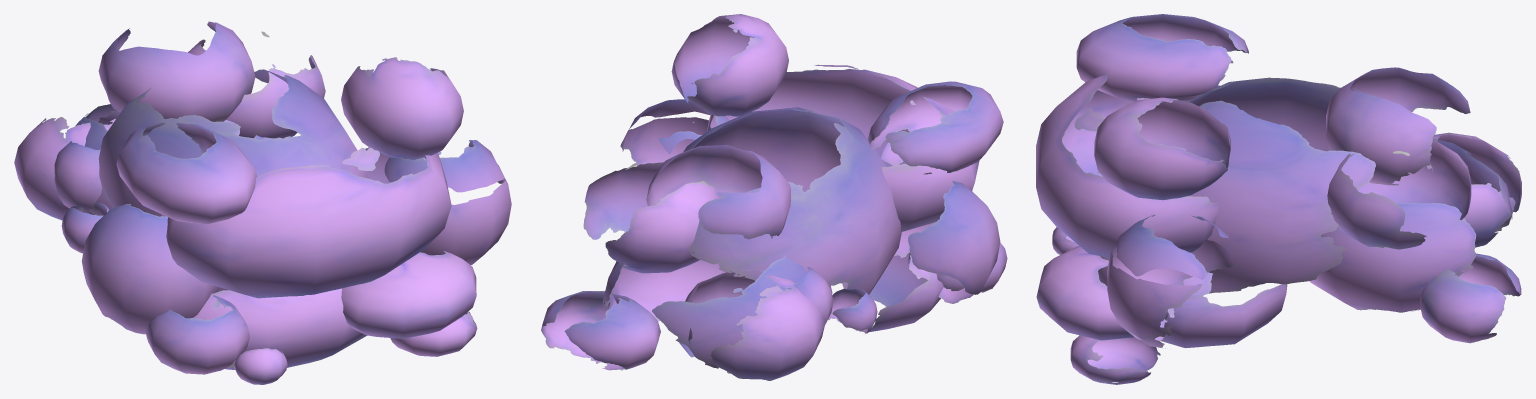
File: cloud_car.fbx
The picture shows the model from 3 angles, left to right: view 1: azimuth 30°, elevation 25°; view 2: azimuth 150°, elevation 25°; view 3: azimuth 270°, elevation 25°; orthographic projection. The views are drawn at different scales.
Parts seen in each view (by area): view 1: cloud_3, cloud_6, cloud_2, cloud_10, cloud_1, cloud_18, cloud_15, cloud_14, cloud_4, cloud_5, cloud_12, cloud_11 (+5 smaller); view 2: cloud_6, cloud_3, cloud_11, cloud_18, cloud_1, cloud_9, cloud_10, cloud_12, cloud_2, cloud_13, cloud_4, cloud_14 (+3 smaller); view 3: cloud_6, cloud_3, cloud_9, cloud_1, cloud_18, cloud_10, cloud_4, cloud_11, cloud_13, cloud_15, cloud_14, cloud_12 (+2 smaller).
Boxes of the visible parts, bbox=[...] form: cloud_3: bbox=[161, 147, 451, 298]; cloud_6: bbox=[98, 69, 368, 291]; cloud_2: bbox=[81, 203, 219, 334]; cloud_10: bbox=[98, 21, 255, 121]; cloud_1: bbox=[116, 123, 257, 224]; cloud_18: bbox=[341, 57, 463, 159]; cloud_15: bbox=[341, 251, 476, 338]; cloud_14: bbox=[194, 288, 367, 369]; cloud_4: bbox=[384, 140, 511, 264]; cloud_5: bbox=[145, 295, 249, 374]; cloud_12: bbox=[14, 111, 119, 220]; cloud_11: bbox=[188, 31, 325, 138]; cloud_6: bbox=[683, 107, 901, 294]; cloud_3: bbox=[707, 64, 979, 231]; cloud_11: bbox=[583, 162, 721, 273]; cloud_18: bbox=[671, 14, 788, 116]; cloud_1: bbox=[868, 81, 1003, 174]; cloud_9: bbox=[602, 256, 832, 368]; cloud_10: bbox=[646, 145, 790, 239]; cloud_12: bbox=[678, 269, 825, 380]; cloud_2: bbox=[894, 181, 1000, 303]; cloud_13: bbox=[541, 291, 660, 370]; cloud_4: bbox=[620, 99, 729, 165]; cloud_14: bbox=[841, 252, 943, 331]; cloud_6: bbox=[1187, 77, 1432, 293]; cloud_3: bbox=[1036, 73, 1218, 258]; cloud_9: bbox=[1309, 139, 1512, 312]; cloud_1: bbox=[1076, 14, 1248, 102]; cloud_18: bbox=[1094, 97, 1230, 200]; cloud_10: bbox=[1326, 67, 1470, 185]; cloud_4: bbox=[1107, 214, 1236, 348]; cloud_11: bbox=[1327, 139, 1471, 249]; cloud_13: bbox=[1420, 253, 1521, 343]; cloud_15: bbox=[1036, 246, 1168, 340]; cloud_14: bbox=[1098, 256, 1287, 347]; cloud_12: bbox=[1432, 132, 1521, 247].
Size of the model in its own units: 7.99 by 5.31 by 8.5.
1 material, 1 textured.
